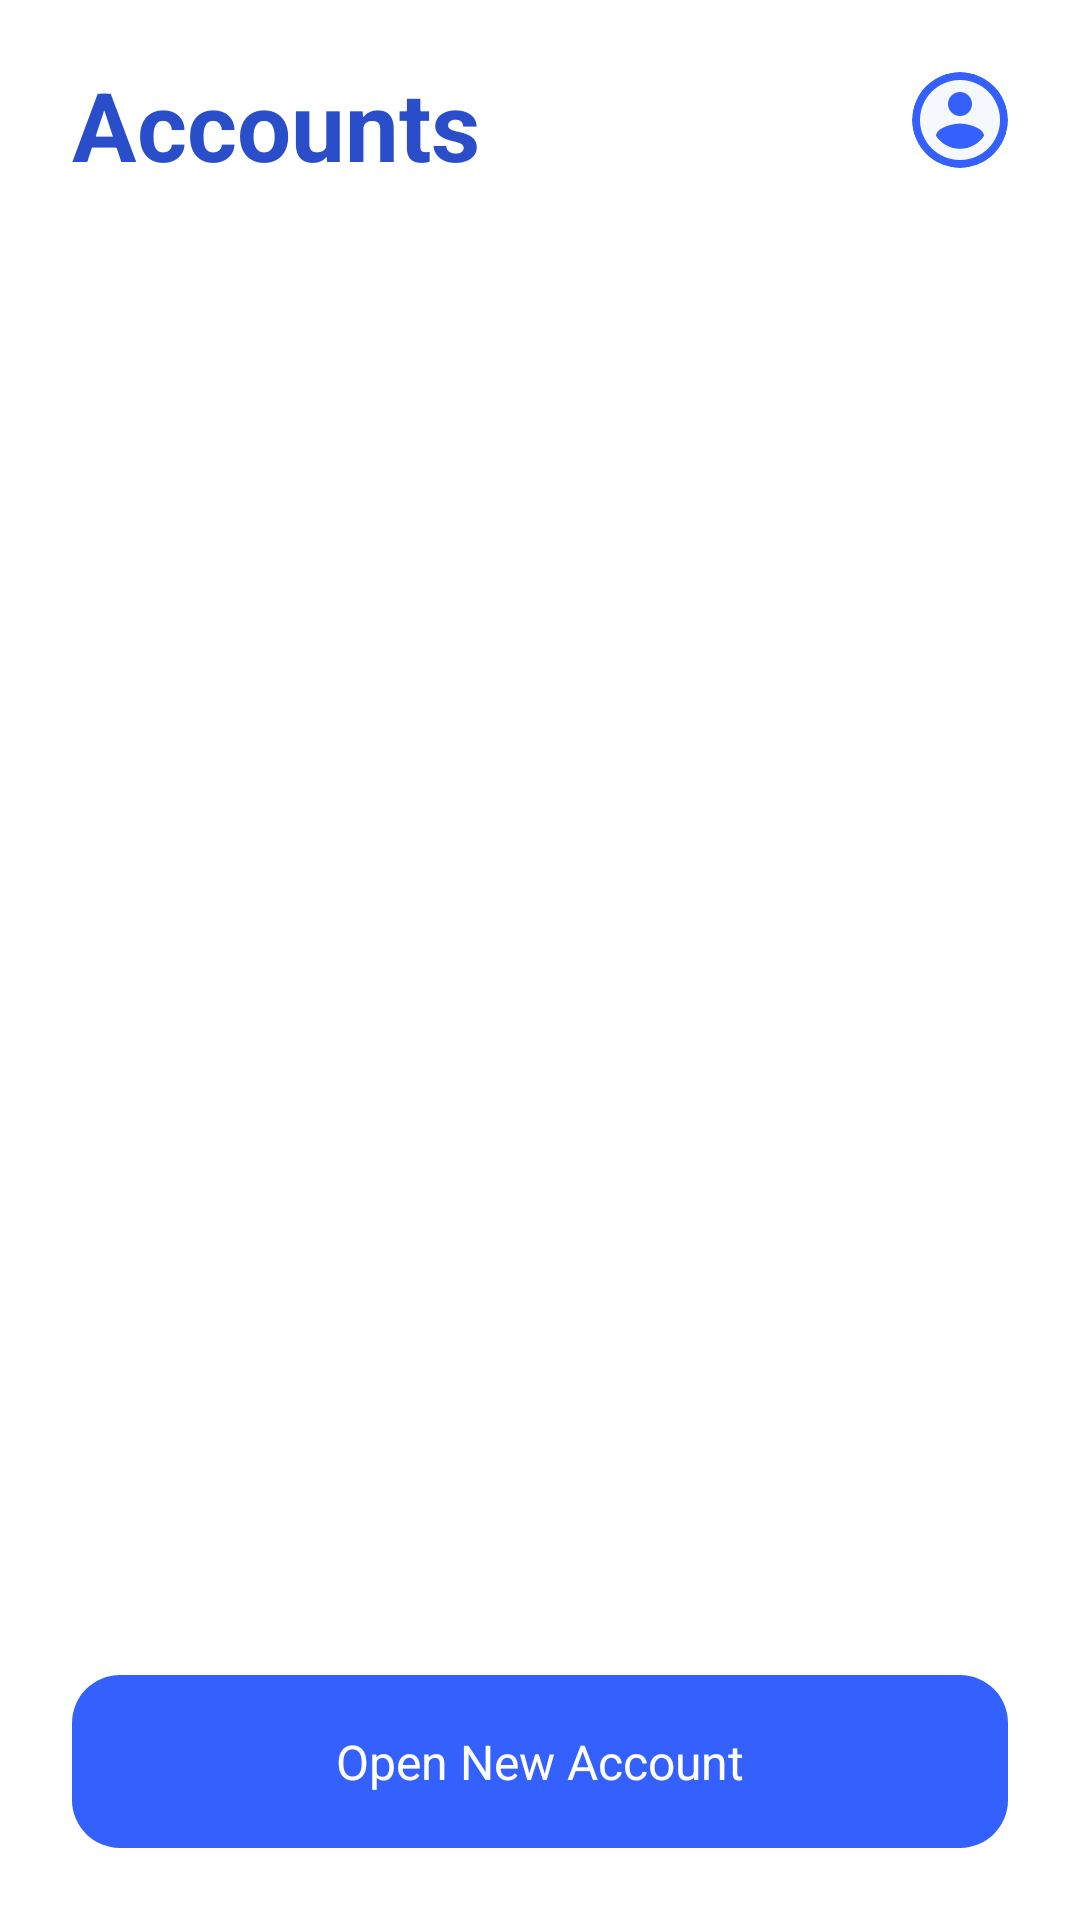

Icon click points for this 1080 × 1920 phone screenshot, format point (x, y):
account circle: point (960, 120)
